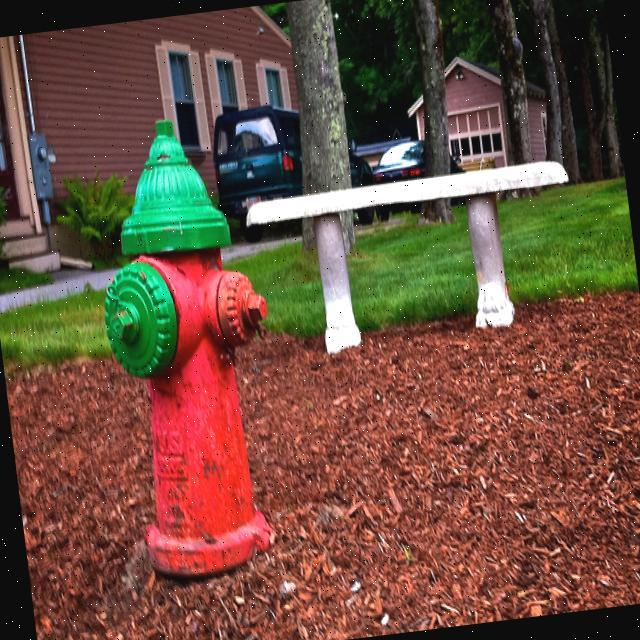fire_hydrant: (82, 108, 298, 588)
